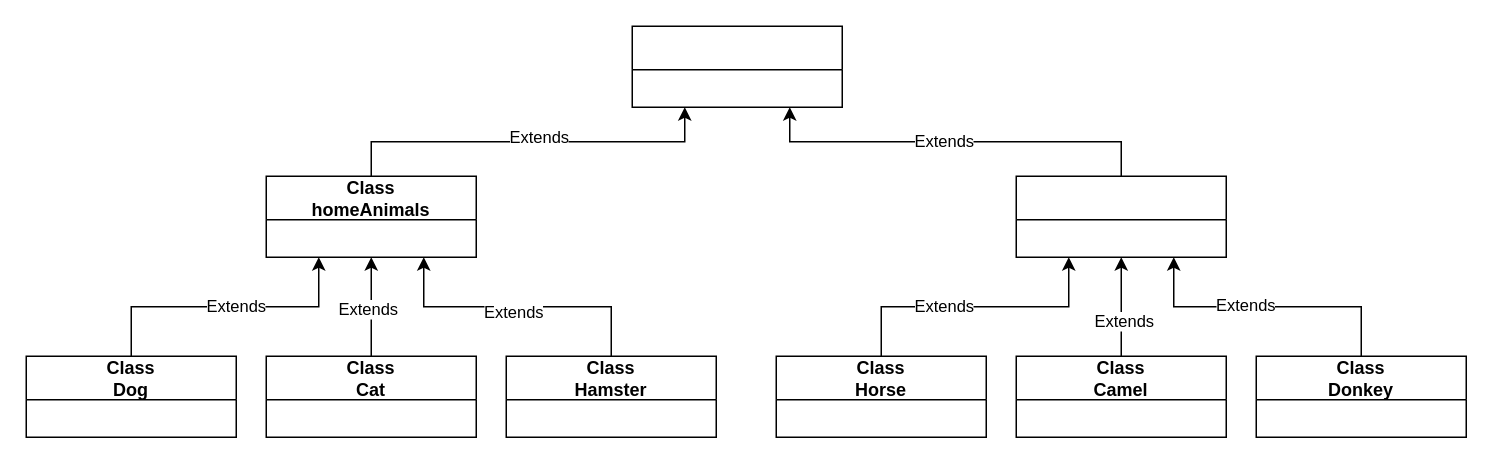
Image size: 1493x464. Some labels were removed from this diagram. The centre of each missing label's shape, as x and y in pixels:
"Class Animals" belongs at point 736,66.
"Class rideAnimals" belongs at point 1120,216.
